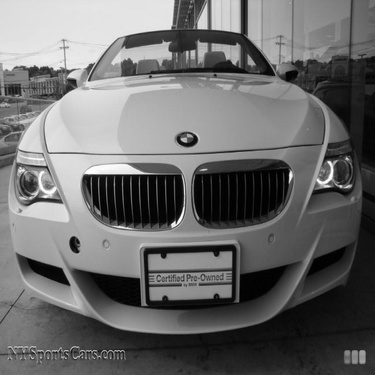car: (10, 20, 365, 338)
